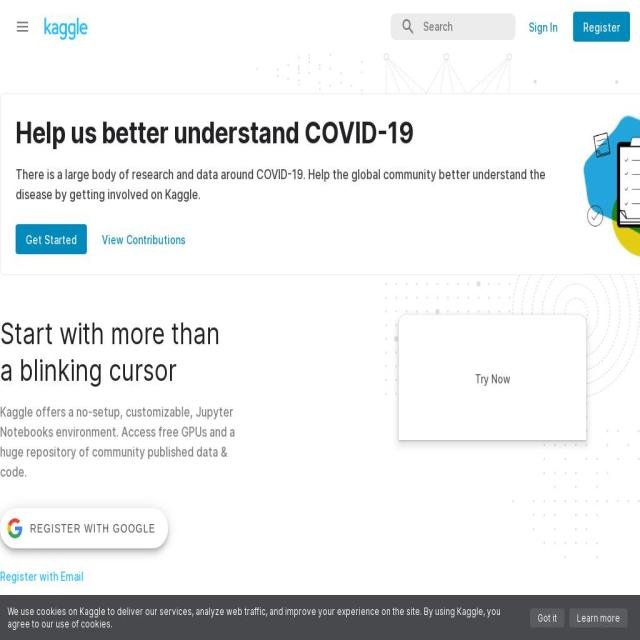button: (399, 315, 586, 443), (0, 508, 168, 548), (0, 568, 235, 585), (97, 224, 191, 254), (15, 224, 86, 254), (573, 12, 630, 42), (464, 364, 520, 394), (570, 608, 632, 628), (523, 12, 563, 42)
heading: (16, 114, 552, 151), (0, 315, 235, 388)
image: (399, 315, 586, 440), (383, 54, 512, 225), (256, 54, 384, 225), (512, 54, 640, 225), (512, 227, 640, 398), (383, 227, 512, 396), (512, 401, 640, 558), (552, 106, 640, 262), (0, 575, 128, 640), (42, 17, 90, 40), (8, 518, 22, 538)
text: (16, 164, 552, 204), (0, 402, 235, 482), (8, 605, 522, 630), (30, 514, 156, 544), (102, 232, 186, 246), (570, 608, 628, 628), (26, 232, 76, 246), (530, 608, 564, 628), (583, 19, 620, 34), (474, 371, 510, 386), (423, 18, 453, 35), (528, 19, 558, 34), (400, 16, 416, 36)
